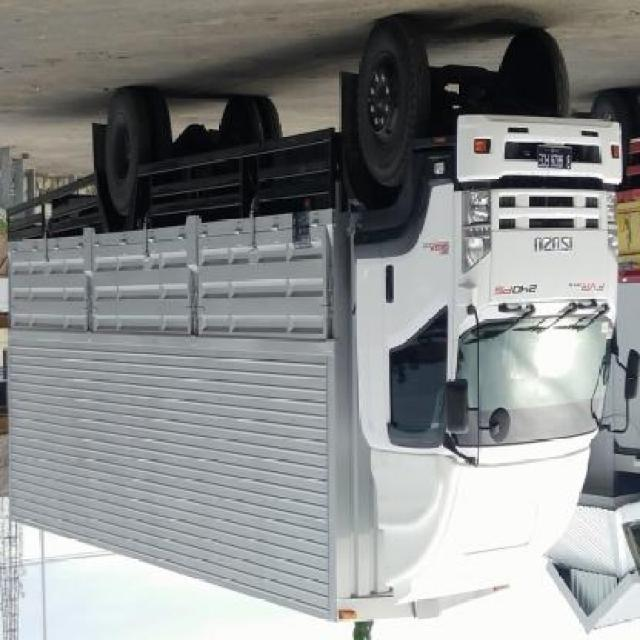truck: (1, 29, 632, 628)
